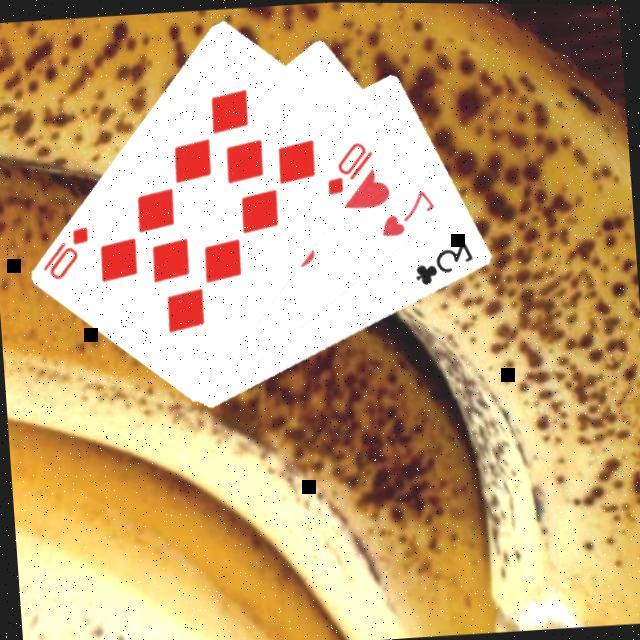10D: (34, 222, 94, 284), (319, 137, 377, 199)
3C: (408, 237, 477, 290)
7H: (373, 185, 438, 241)
